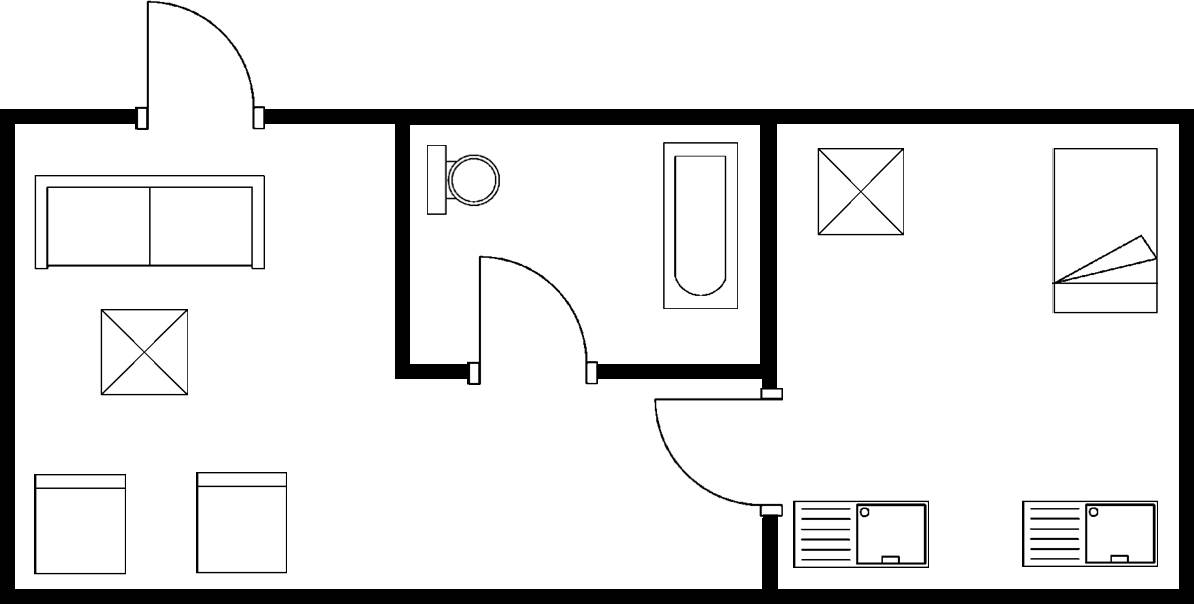bed: (1045, 137, 1163, 322)
coffee_table: (812, 141, 911, 246), (95, 303, 197, 402)
large_sink: (421, 133, 506, 226)
large_sofa: (29, 168, 272, 279)
sink: (1015, 491, 1167, 576), (785, 492, 938, 576)
small_sofa: (190, 465, 295, 579), (29, 468, 134, 580)
tub: (658, 135, 745, 315)
